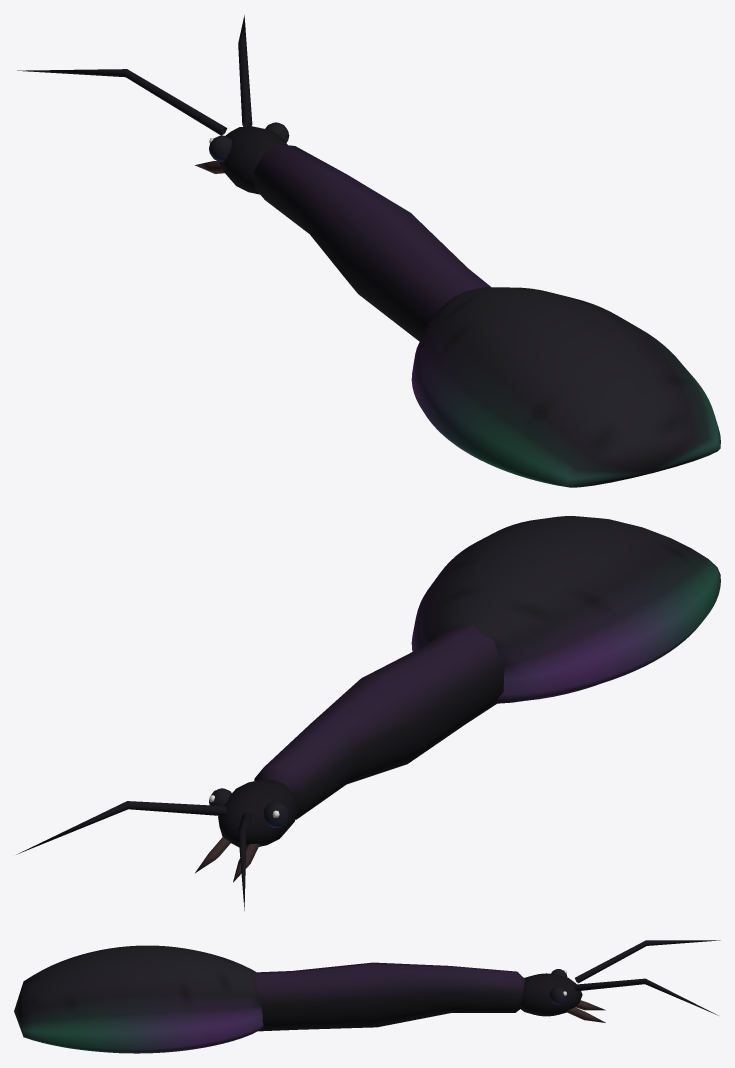
The model's file is Maimaikaburi.fbx.
3 renders of one model, top to bottom at view 1: azimuth 30°, elevation 25°; view 2: azimuth 150°, elevation 25°; view 3: azimuth 270°, elevation 25°, orthographic. The views are drawn at different scales.
Visible parts, largest first — view 1: Maimaikaburi; view 2: Maimaikaburi; view 3: Maimaikaburi.
Boxes of the visible parts, x1,y1,x2,y2 form: Maimaikaburi: (17, 15, 720, 487); Maimaikaburi: (16, 516, 720, 910); Maimaikaburi: (14, 940, 720, 1053).
Size of the model in its own units: 0.6 by 0.2679 by 2.35.
